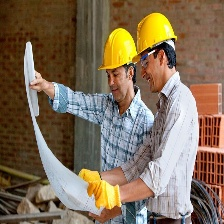helmet: (131, 13, 180, 62), (96, 27, 137, 79)
no-vest: (93, 90, 150, 224), (151, 82, 199, 221)
person: (131, 12, 199, 219), (86, 23, 151, 224)
